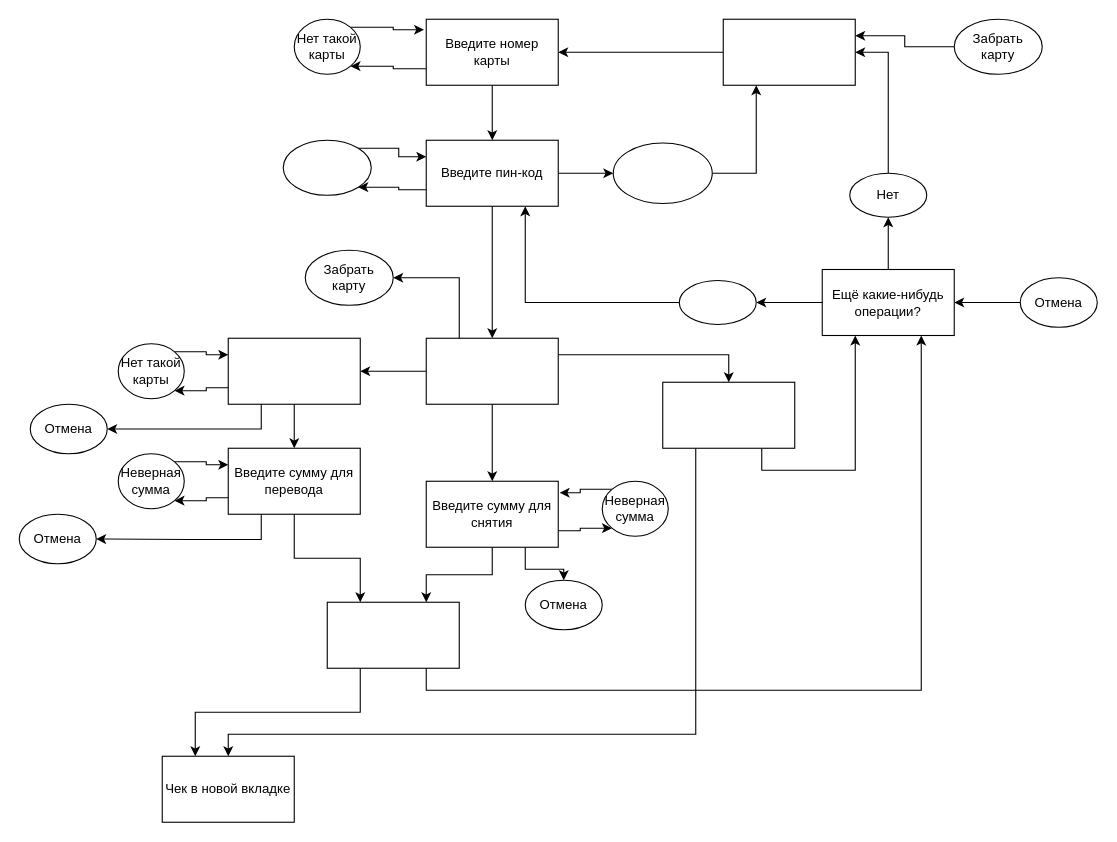
Some shapes in this 1117 by 842 pixel diagram are drawn without their labels. Here are the shapes that lost their labels. From the top down, the centre of each, then its label:
At (788,51): "Заберите карту + доп. текст (ошибка или успех)".
At (326,167): "Неверный пин-код, ещё раз".
At (662,173): "3 раза неверный пин-код или отмена".
At (717,301): "Да".
At (293,370): "Введите номер карты для перевода".
At (491,370): "Выберите действие".
At (728,414): "Состояние счёта + печатать чек?".
At (392,634): "Операция выполнена. Печатать чек?".
